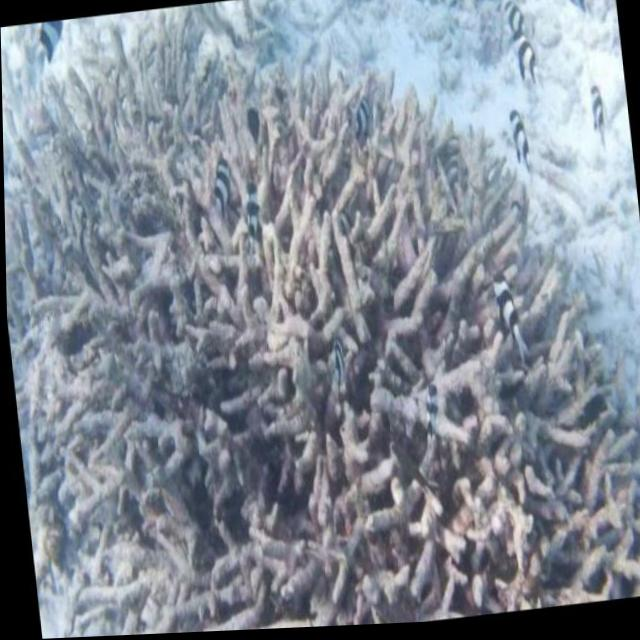Dead Coral: (1, 29, 625, 640)
